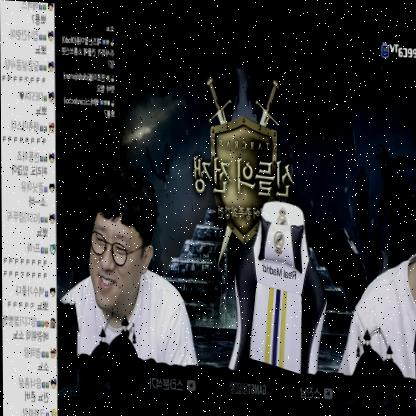streamer: (56, 159, 198, 364), (336, 163, 416, 373)
